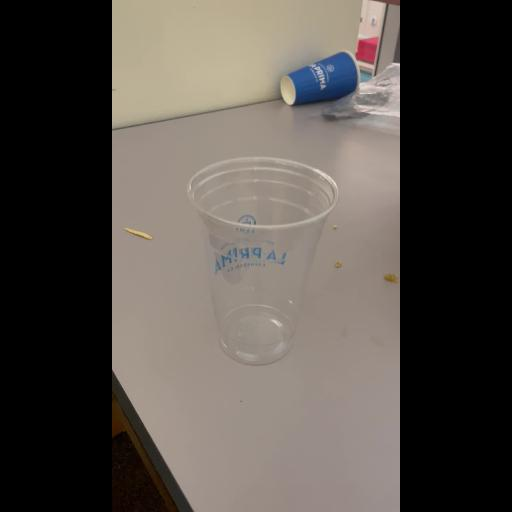lp_plastic_cup: (187, 152, 343, 368)
